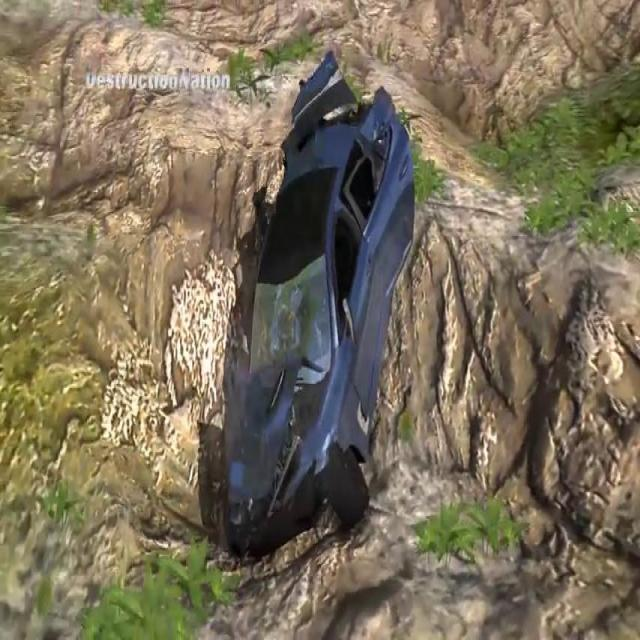accident: (192, 48, 420, 568)
